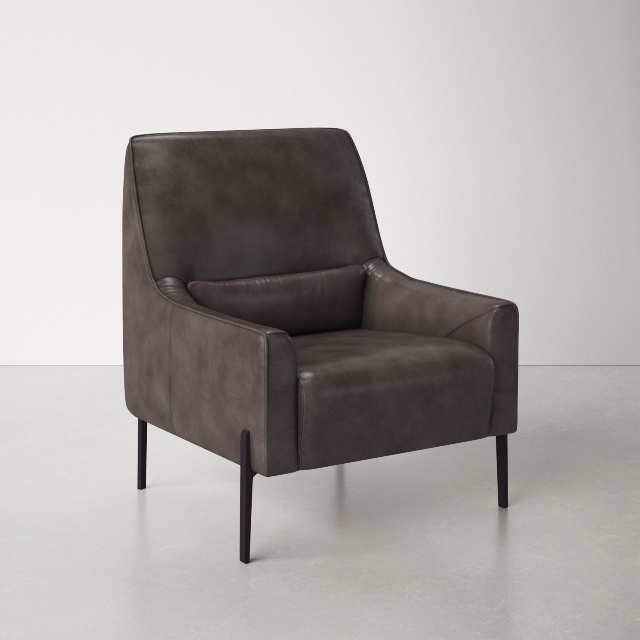obstacle: (123, 128, 518, 562)
